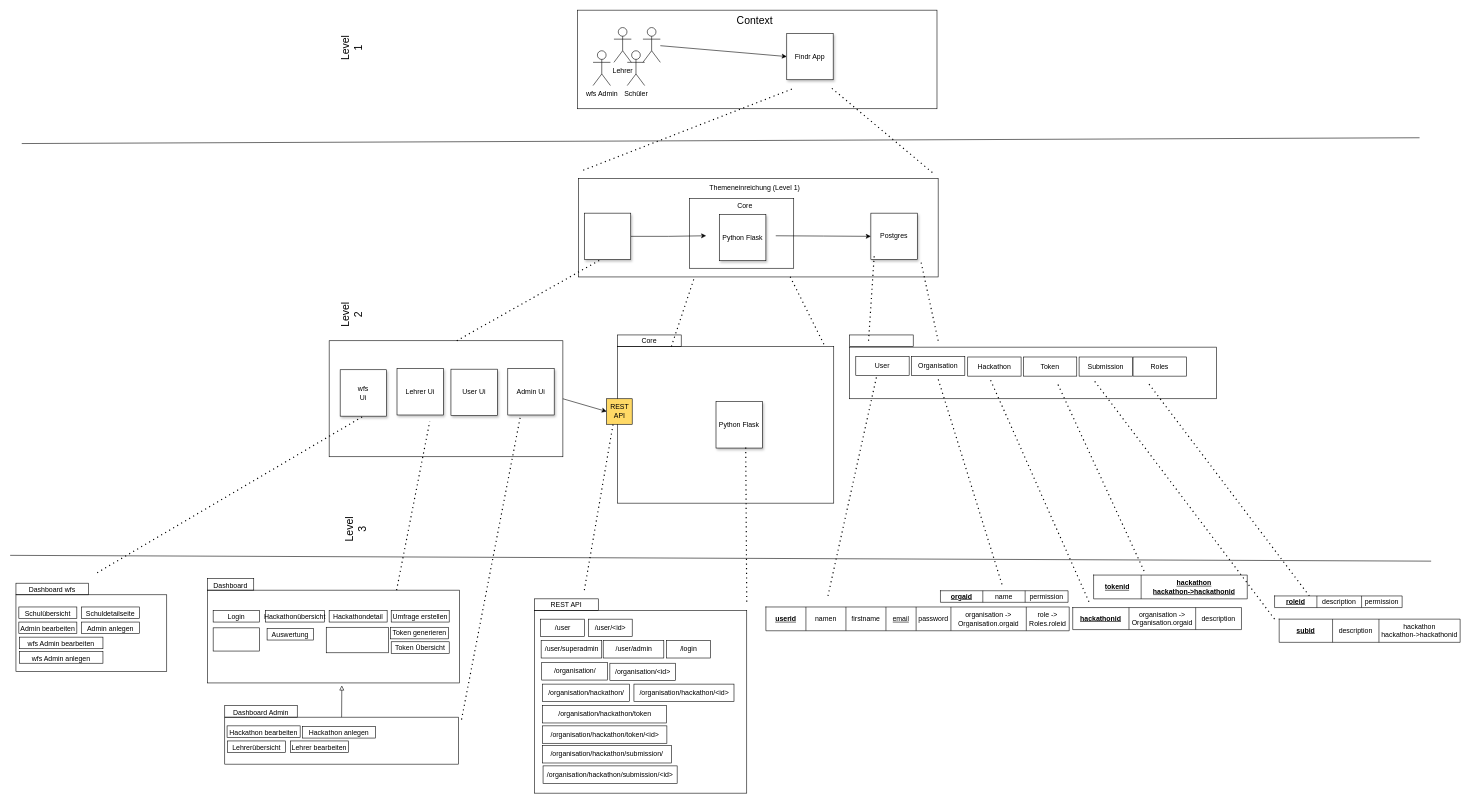
The diagram is 1470 pixels wide and 803 high, and some of its shapes have lost their labels. Here are the shapes that lost their labels. From the top down, the centre of each, then its label:
point 651,44: Admin
point 607,237: Vue.js UI
point 881,340: Datenbank
point 236,639: Auswertung übersicht
point 357,640: Auswertung bearbeiten
